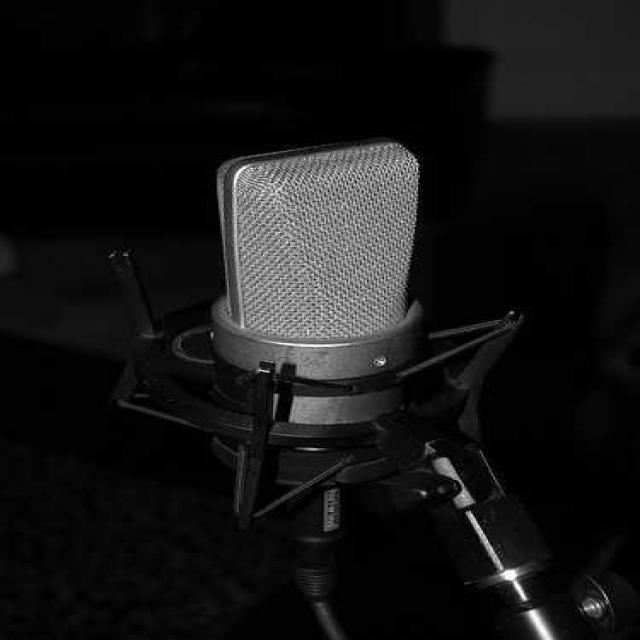microphone: (207, 142, 423, 443)
